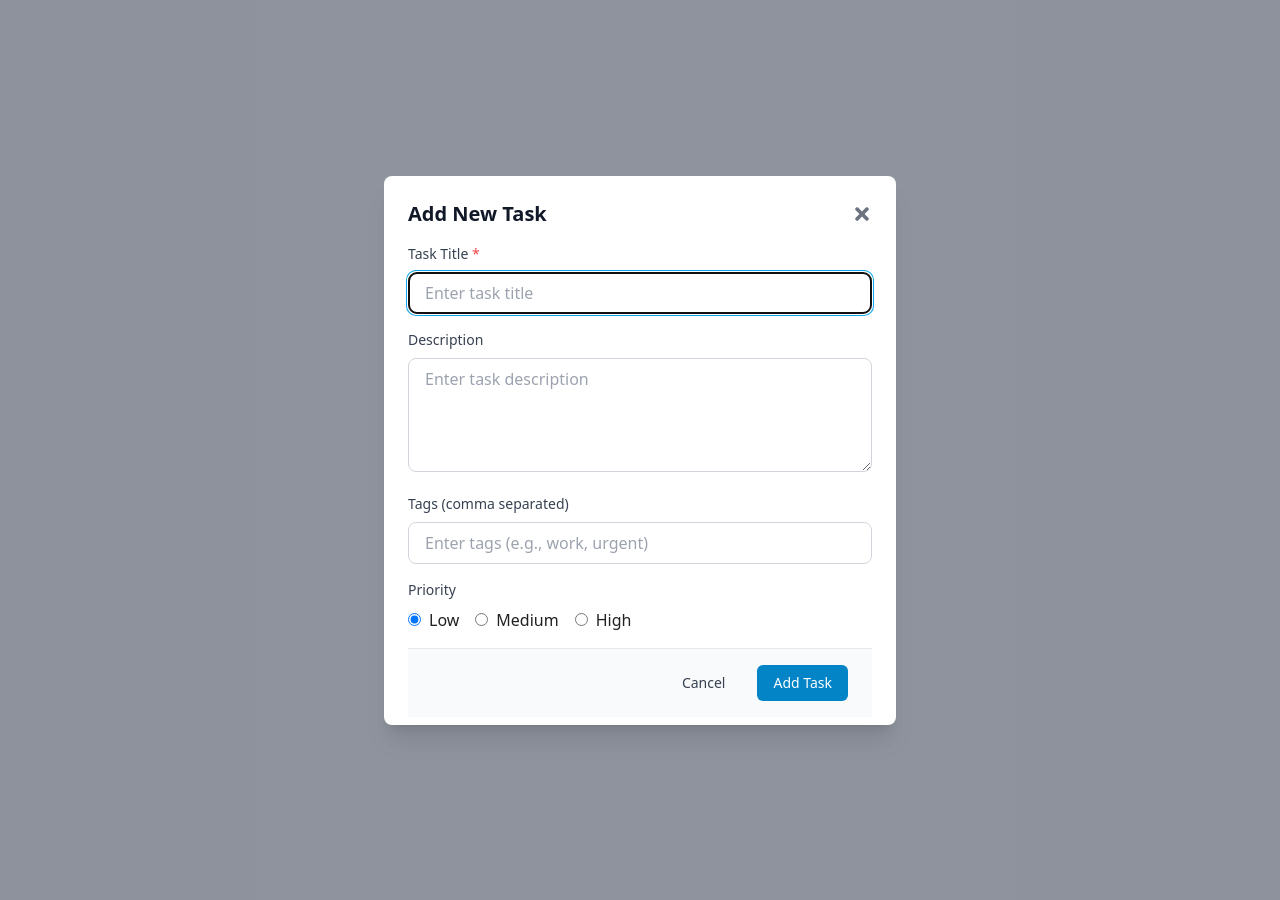
Test: AddTaskModal › should remove tag when clicking remove button
Type "work," into the field with test id "tags-input" at (640, 542), box [408,522,872,564]
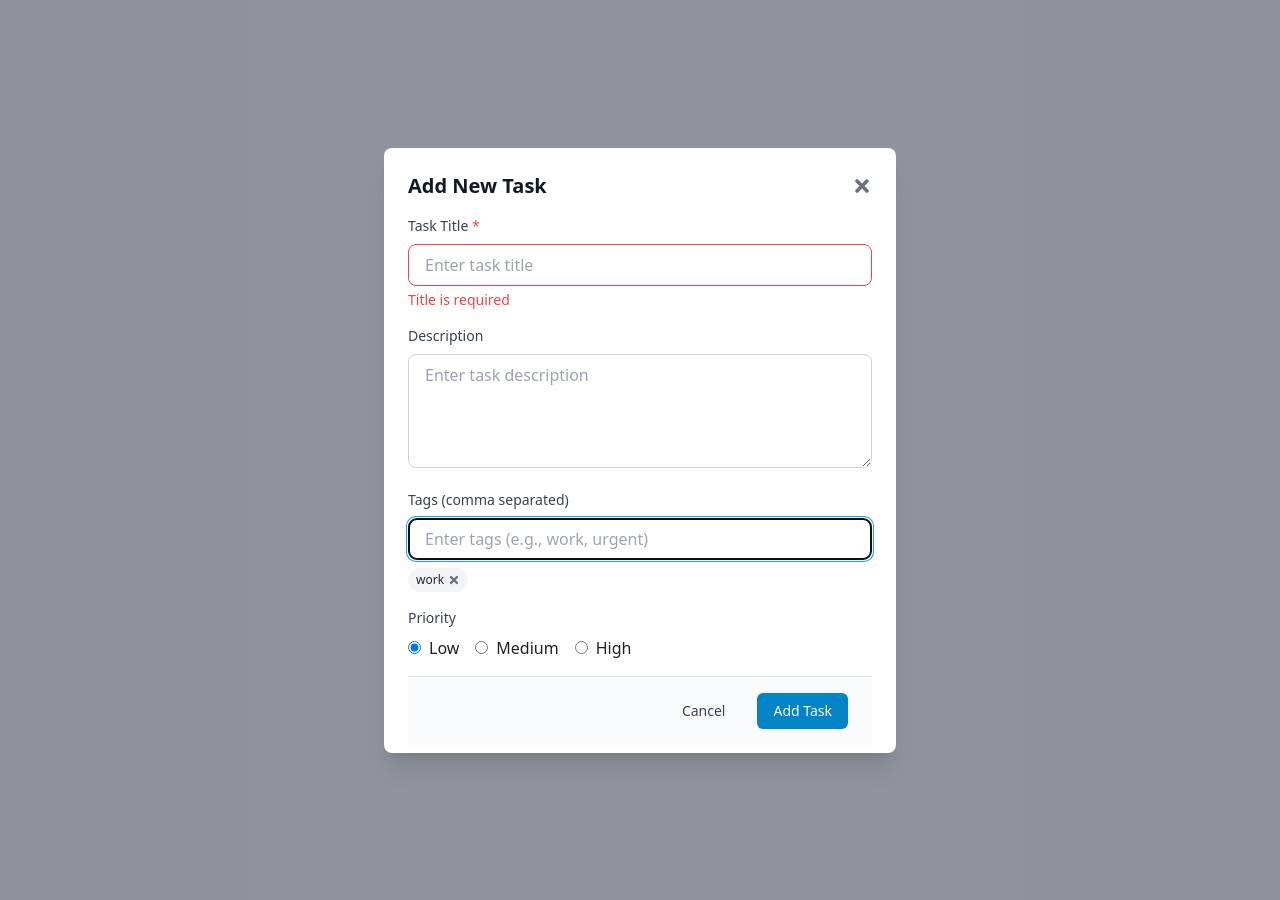
Click the button with test id "remove-tag-work" at (454, 580), box [448,574,460,586]
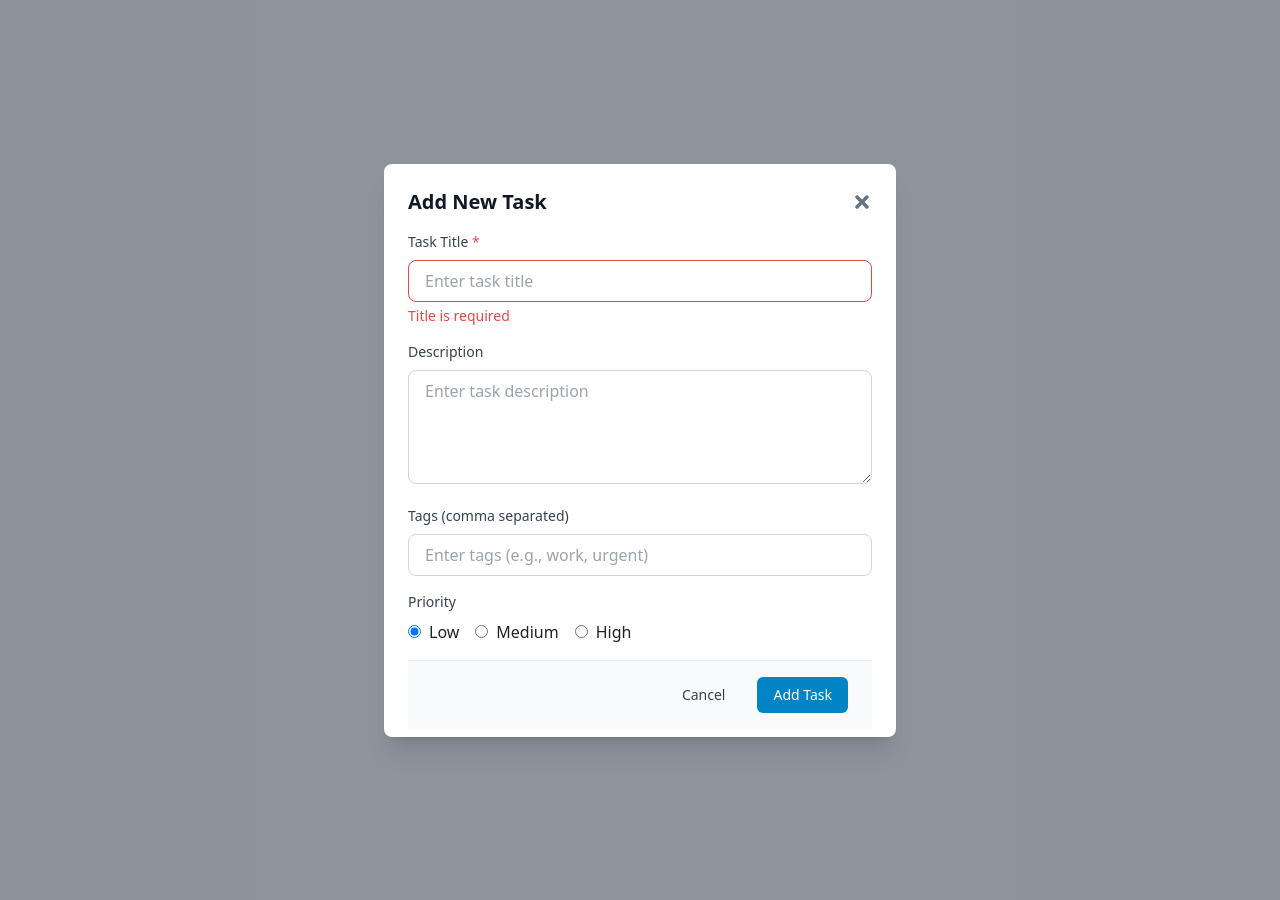
Expected: the element with test id "tag-work" is gone
